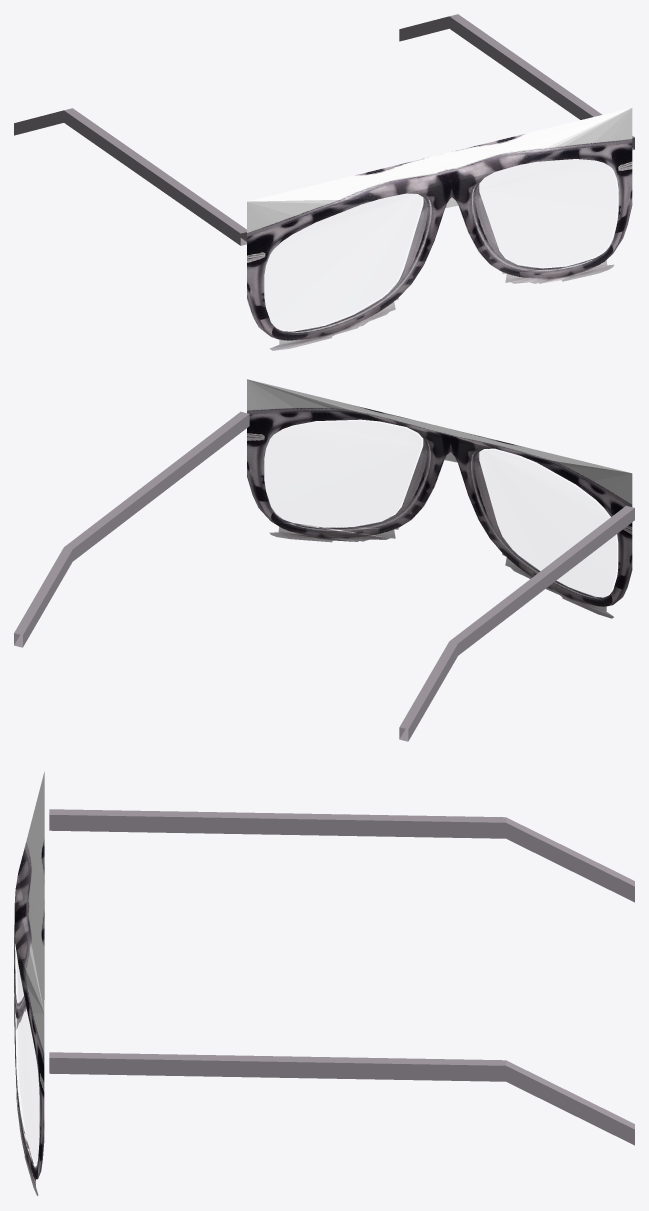
The model's file is gothamstyle-matte-247_matte-demi-gray.glb.
3 views of the same model, one above another, from view 1: azimuth 30°, elevation 25°; view 2: azimuth 150°, elevation 25°; view 3: azimuth 270°, elevation 25° (orthographic). The views are drawn at different scales.
Visible parts, largest first — view 1: frame_front, temple_viewer_left, temple_viewer_right; view 2: frame_front, temple_viewer_left, temple_viewer_right; view 3: temple_viewer_left, temple_viewer_right, frame_front.
Part boxes in pixels (<box>): frame_front: <box>247,107,632,350</box>; temple_viewer_left: <box>14,108,246,245</box>; temple_viewer_right: <box>399,14,634,150</box>; frame_front: <box>247,379,632,618</box>; temple_viewer_left: <box>399,505,634,741</box>; temple_viewer_right: <box>14,411,249,647</box>; temple_viewer_left: <box>49,809,634,902</box>; temple_viewer_right: <box>49,1052,634,1145</box>; frame_front: <box>14,771,44,1195</box>.
Size of the model in its own units: 0.1336 by 0.0497 by 0.141.
3 materials, 2 textured.
